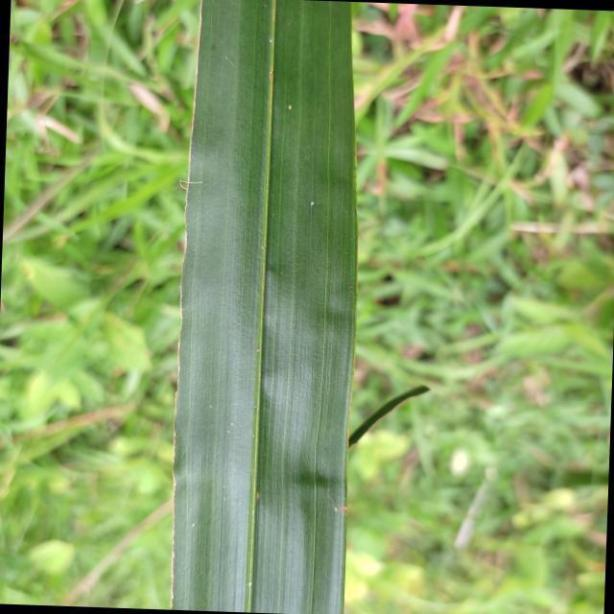Boron: (174, 0, 354, 614)
